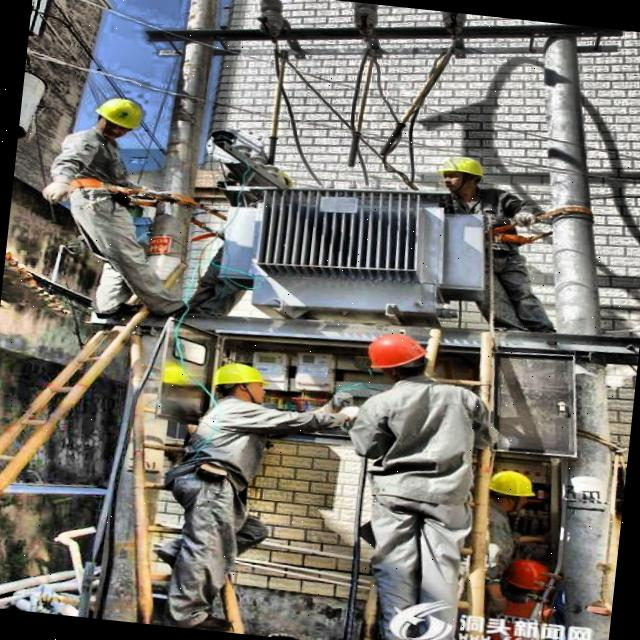helmet: (361, 327, 430, 385), (209, 358, 273, 408), (482, 464, 538, 520), (436, 147, 488, 200), (90, 91, 145, 140)
